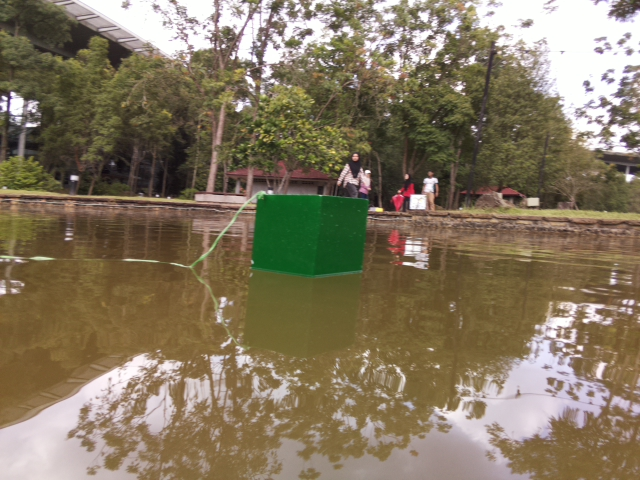obstacle: (248, 194, 369, 279)
